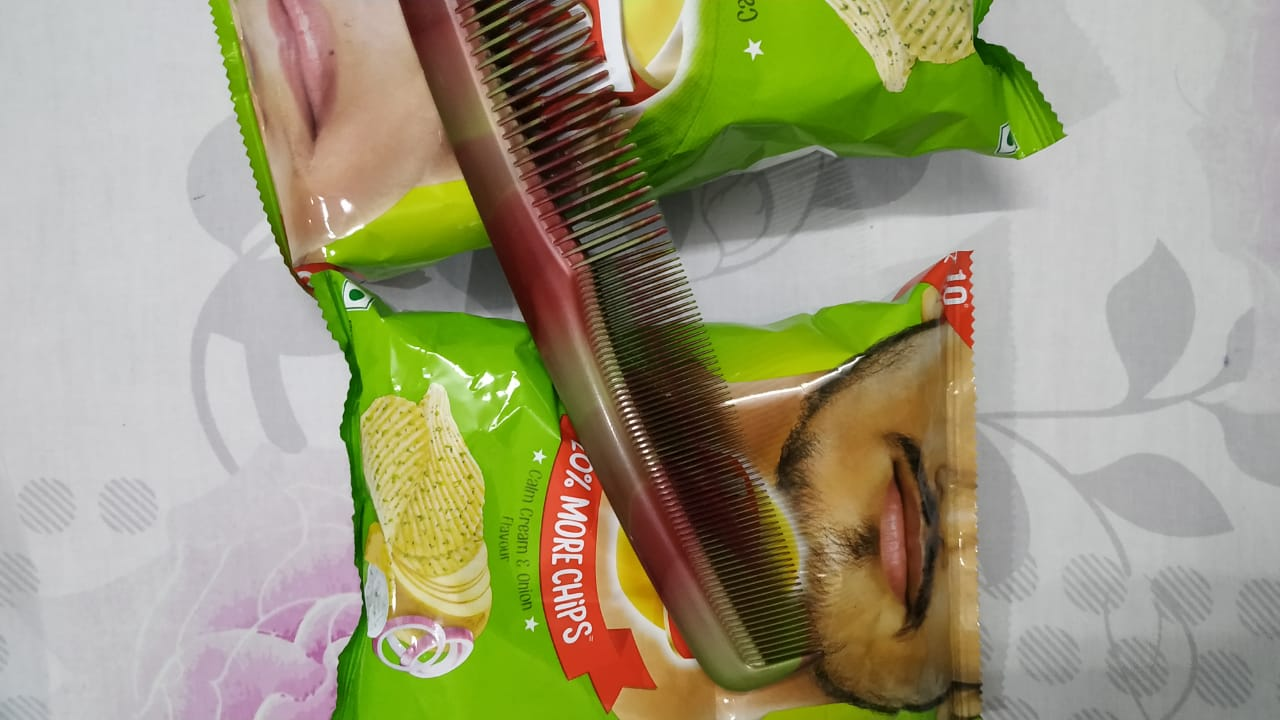lays chips: (290, 276, 1008, 720), (211, 4, 1084, 272)
